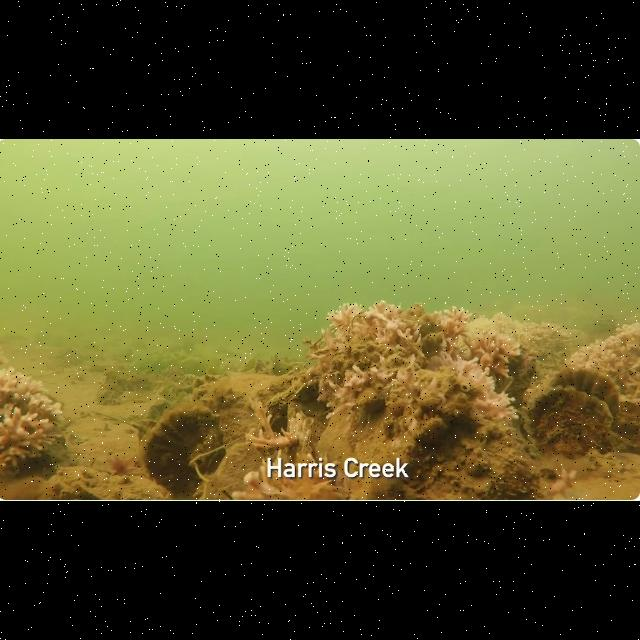Oyster-Closed: (138, 403, 225, 495), (526, 387, 616, 461), (458, 428, 548, 502), (55, 464, 169, 502), (552, 367, 622, 427), (318, 346, 422, 382), (208, 442, 268, 488), (262, 387, 306, 437), (410, 416, 464, 454), (349, 389, 386, 413), (294, 376, 324, 404), (95, 379, 119, 405), (180, 358, 206, 380), (118, 372, 146, 390), (220, 356, 247, 374), (298, 428, 314, 458), (118, 346, 136, 362), (128, 340, 150, 352), (240, 358, 256, 374), (159, 382, 175, 398)
